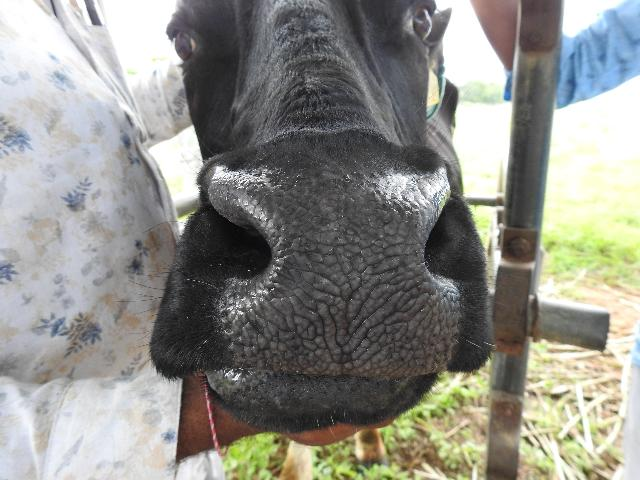Muzzle: (218, 168, 452, 370)
